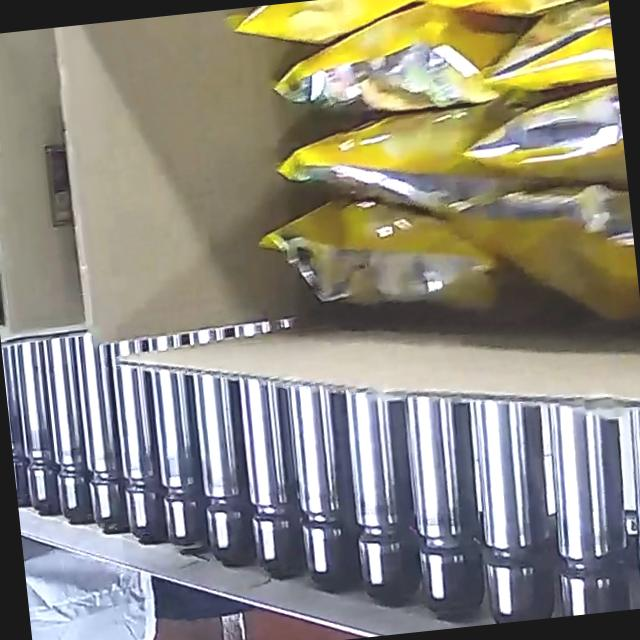salted: (223, 0, 640, 367)
